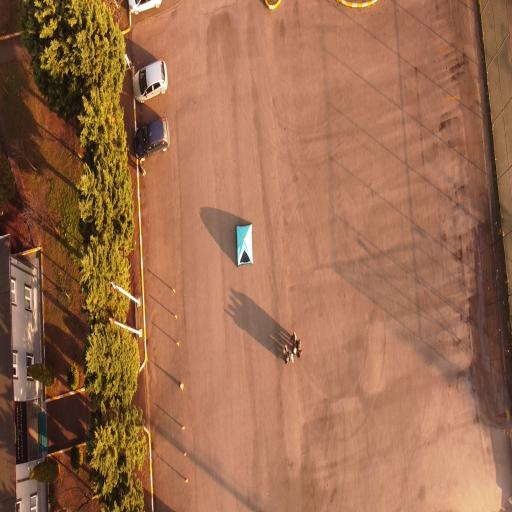tent: (234, 219, 256, 266)
